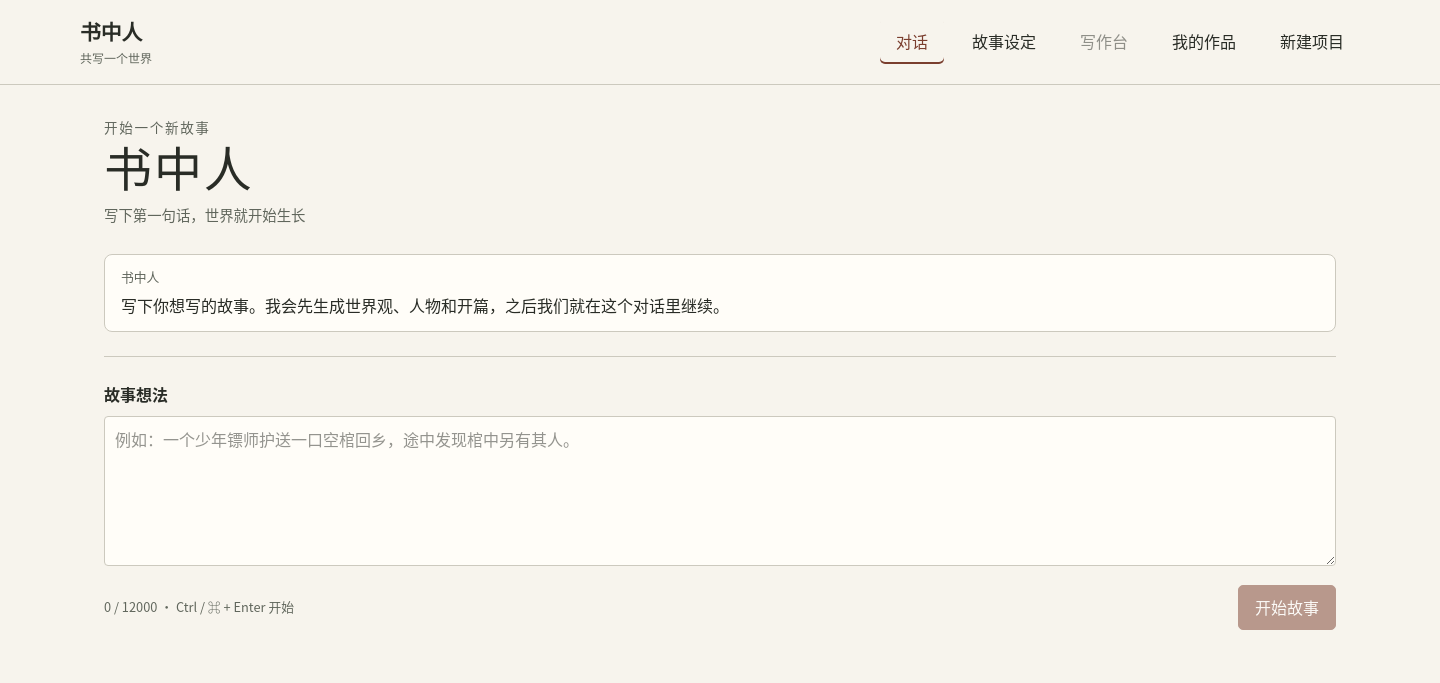
Test: WritingApp chat entry › keeps the workbench reachable from the chat entry
The width and height of the screenshot is (1440, 683).
Step 1. Click the button "故事设定" → [1004, 42], box 956,20 -> 1052,64
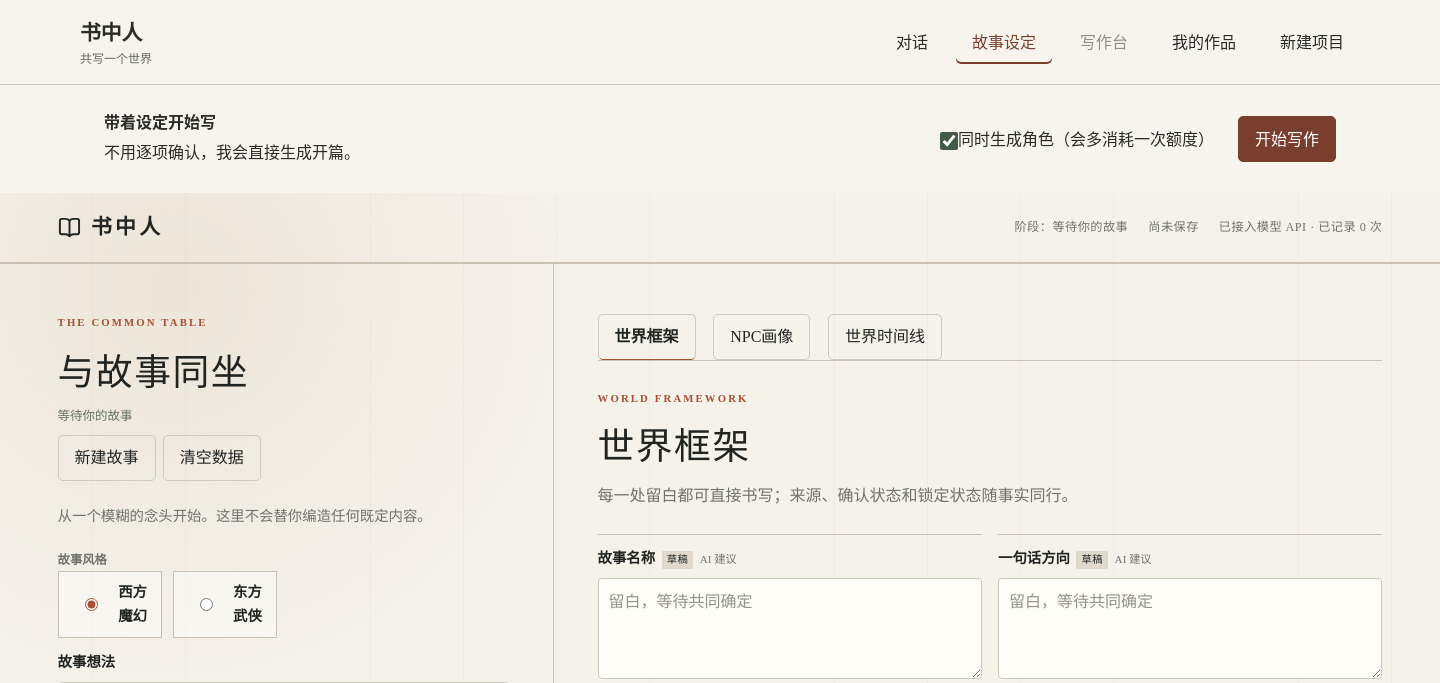
Check: the text "带着设定开始写" is shown, box 104,110 -> 216,134
Check: the button "开始写作" is shown, box 1238,116 -> 1336,162
